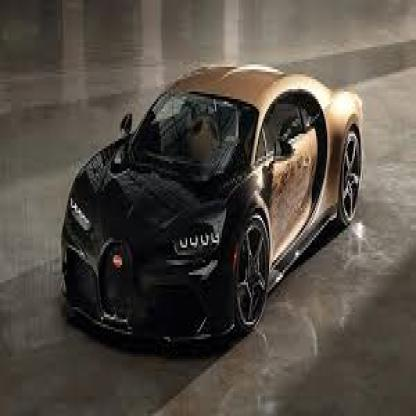car: (62, 65, 378, 341)
